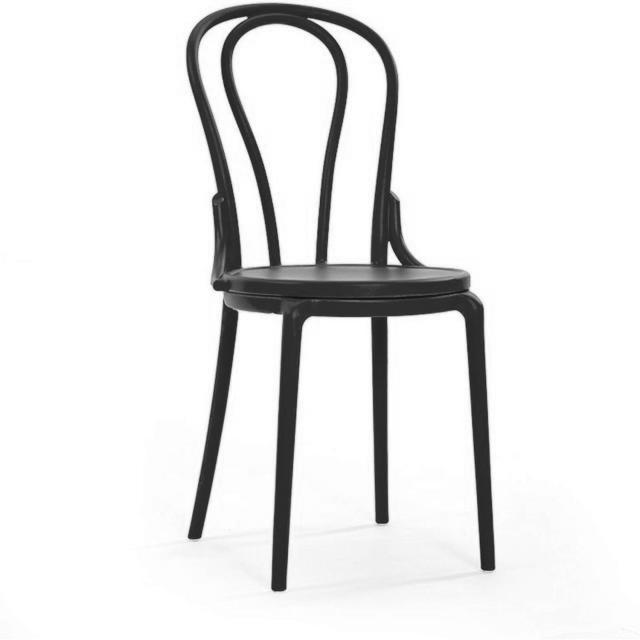chair: (178, 4, 504, 594)
